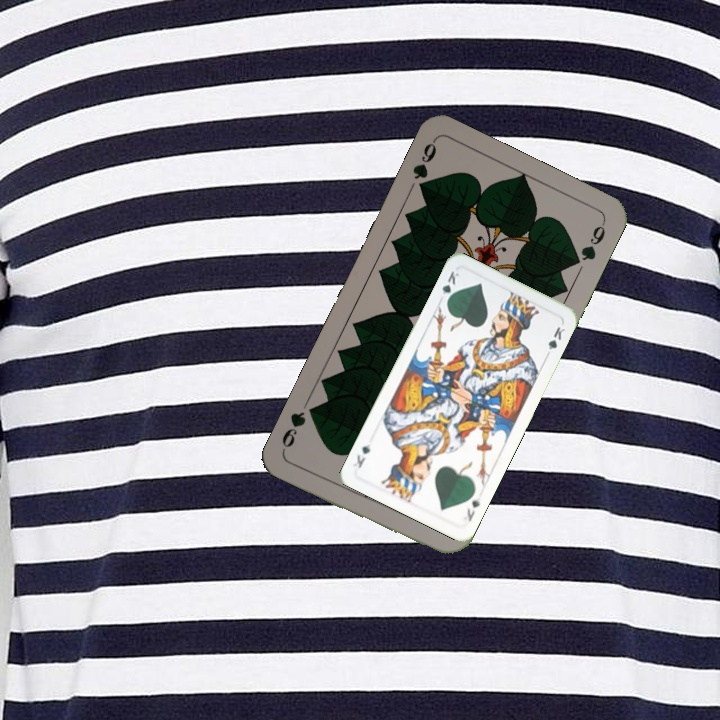G9: (409, 136, 439, 196)
GK: (438, 267, 462, 306), (459, 493, 483, 524)
